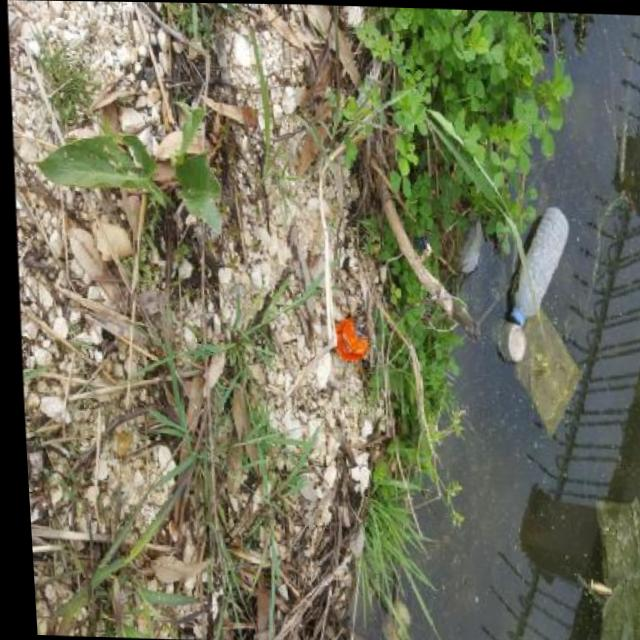plastic: (203, 89, 330, 155), (330, 299, 376, 335)
